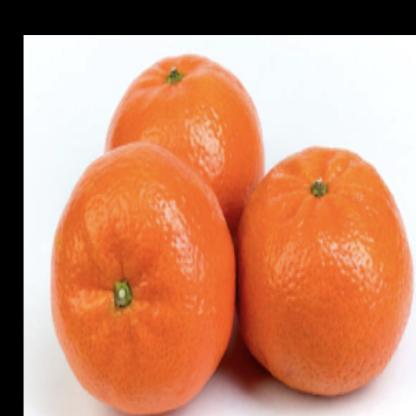fresh: (52, 54, 416, 416)
